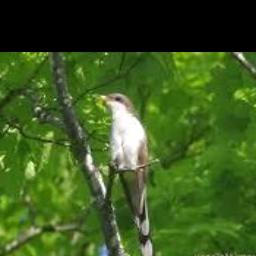Cuckoo: (101, 93, 157, 256)
